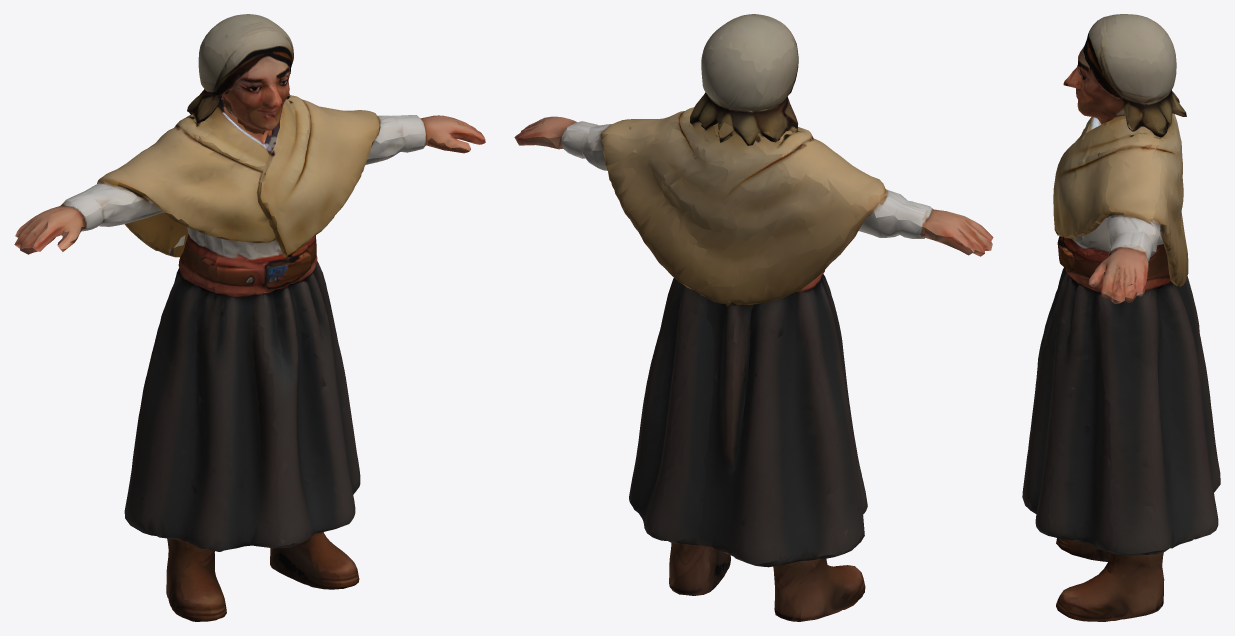
File: dona_rosario_mixamo.fbx
3 renders of one model, left to right at view 1: azimuth 30°, elevation 25°; view 2: azimuth 150°, elevation 25°; view 3: azimuth 270°, elevation 25°, orthographic. The views are drawn at different scales.
Parts seen in each view (by area): view 1: dona_rosario; view 2: dona_rosario; view 3: dona_rosario.
Boxes of the visible parts, box(x1,y1,x2,y2) form: dona_rosario: box(14, 14, 485, 621); dona_rosario: box(514, 14, 993, 621); dona_rosario: box(1022, 14, 1220, 621).
Bounding box in the file's own units: 135 × 158 × 50.39.
Materials: 1 (1 with a texture image).
